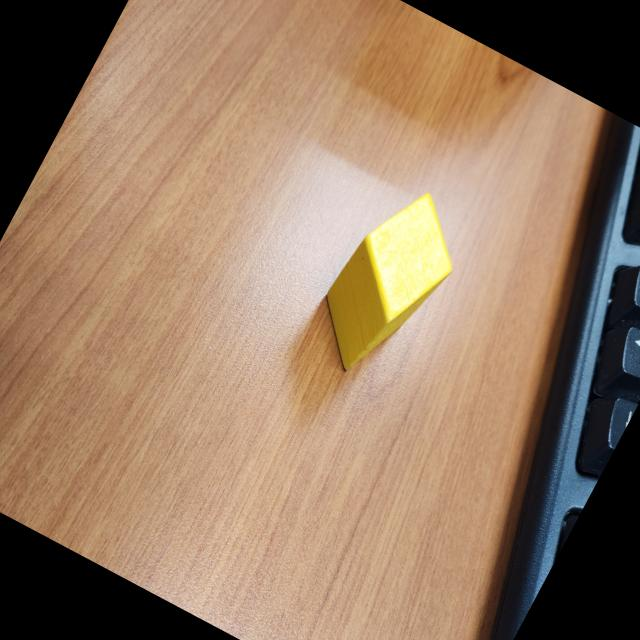yellow: (325, 193, 450, 372)
